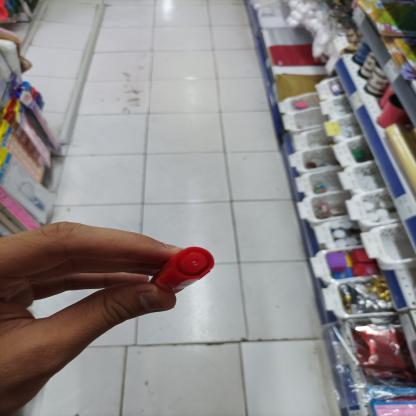pencil: (152, 231, 216, 305)
